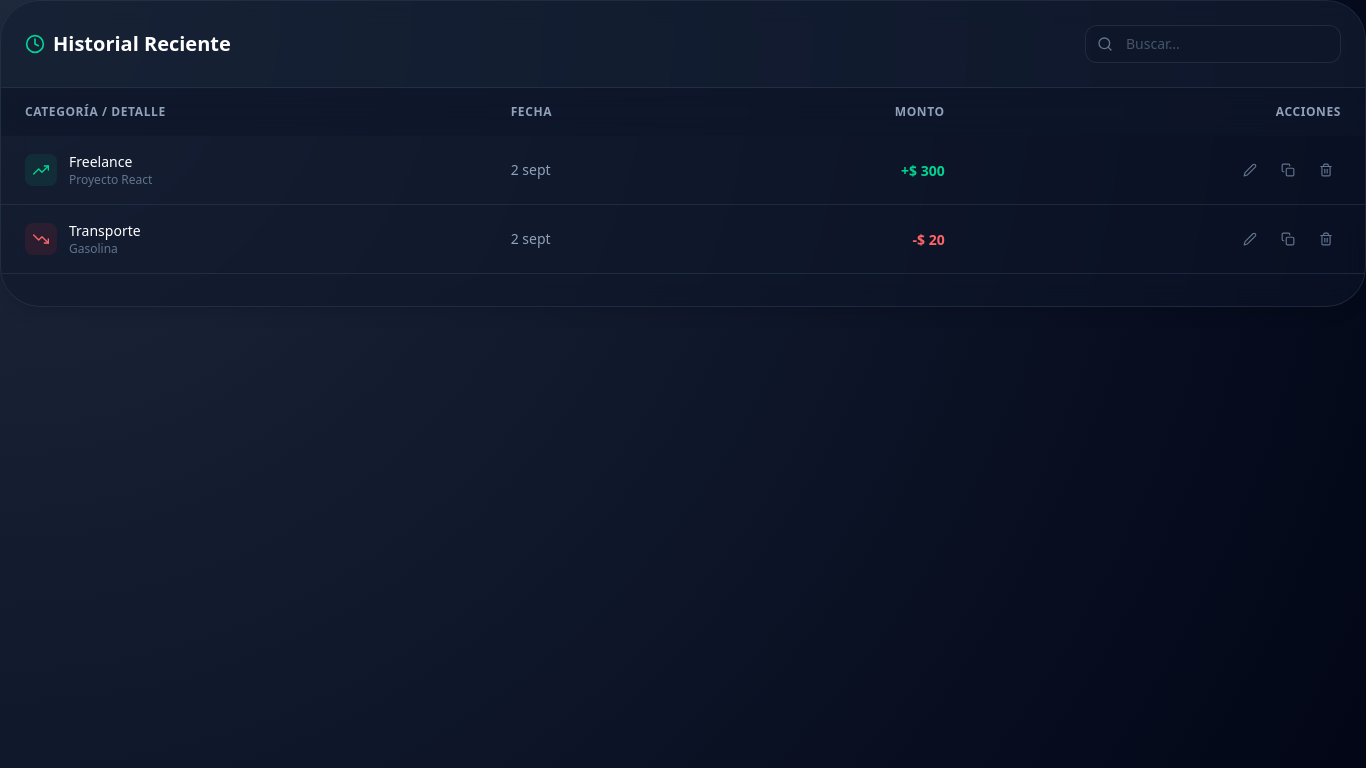
Scenario: RecentTransactions Component › filtra transacciones en tiempo real al escribir en el campo de búsqueda
This screenshot has width=1366, height=768.
Type "React" into the field with placeholder "Buscar..." at x=1213, y=44, box [1085,25,1341,63]
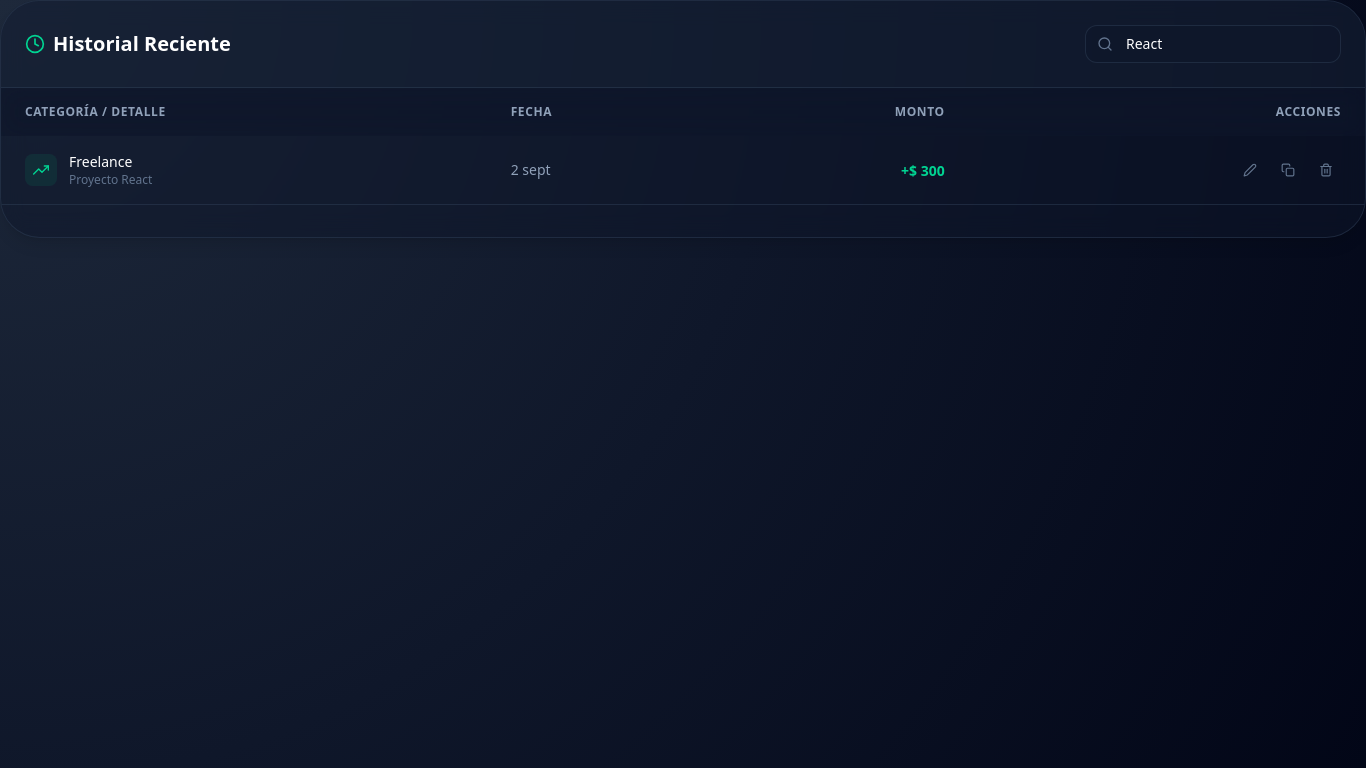
Check: the text "Transporte" is gone
